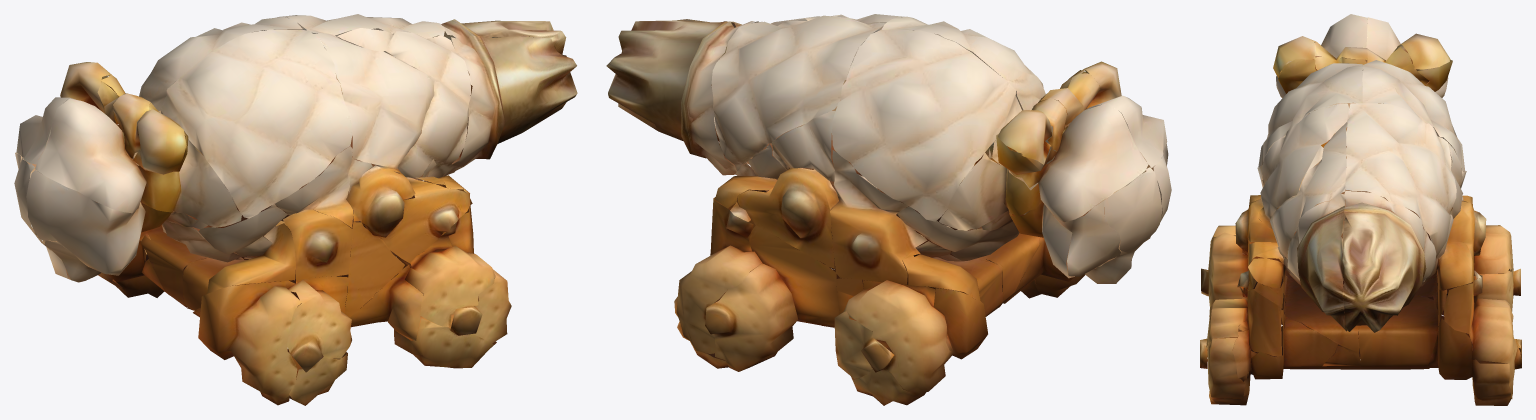
Rendered from board-cannon-sugar-blast.glb.
The picture shows the model from 3 angles, left to right: view 1: azimuth 30°, elevation 25°; view 2: azimuth 150°, elevation 25°; view 3: azimuth 270°, elevation 25°; orthographic projection. The views are drawn at different scales.
Parts seen in each view (by area): view 1: tripo_node_e2e21a62-b5e9-4f0d-9572-14f24536fafc; view 2: tripo_node_e2e21a62-b5e9-4f0d-9572-14f24536fafc; view 3: tripo_node_e2e21a62-b5e9-4f0d-9572-14f24536fafc.
Boxes of the visible parts, x1,y1,x2,y2 form: tripo_node_e2e21a62-b5e9-4f0d-9572-14f24536fafc: (14, 14, 577, 405); tripo_node_e2e21a62-b5e9-4f0d-9572-14f24536fafc: (606, 14, 1171, 405); tripo_node_e2e21a62-b5e9-4f0d-9572-14f24536fafc: (1200, 14, 1521, 405).
Size of the model in its own units: 1 by 0.5477 by 0.5819.
Materials: 1 (1 with a texture image).
